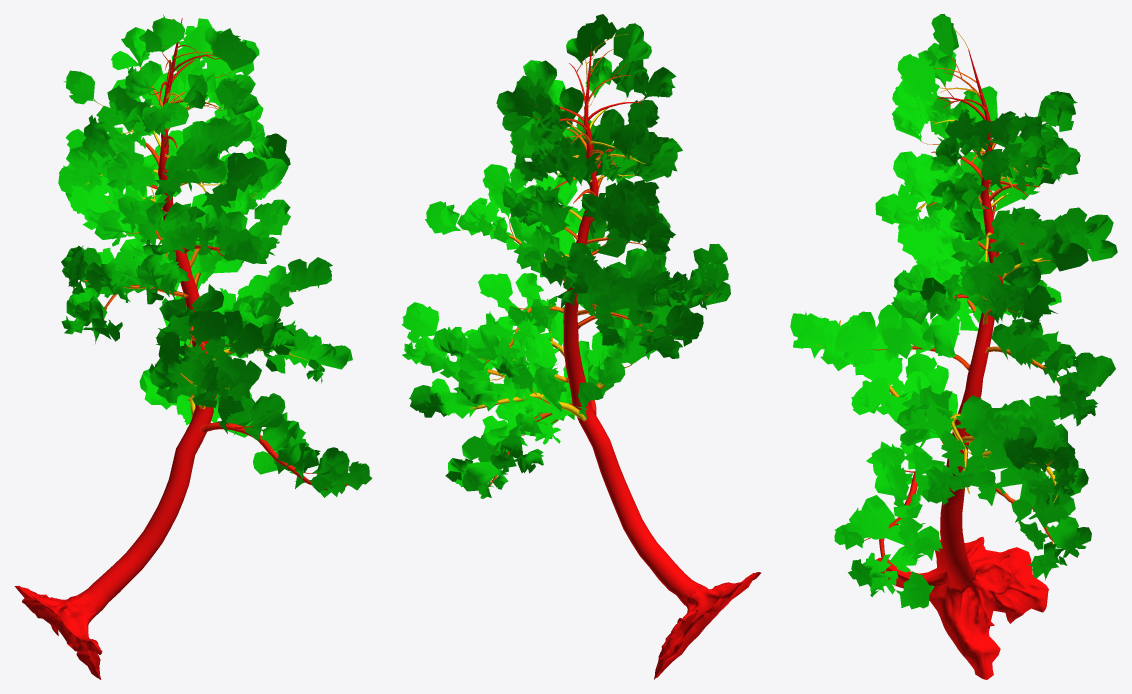
File: Pine_002_U2.FBX
3 renders of one model, left to right at view 1: azimuth 30°, elevation 25°; view 2: azimuth 150°, elevation 25°; view 3: azimuth 270°, elevation 25°, orthographic. The views are drawn at different scales.
Parts seen in each view (by area): view 1: U2_LOD0; view 2: U2_LOD0; view 3: U2_LOD0.
Part boxes in pixels (bbox=[...]): U2_LOD0: bbox=[14, 14, 372, 679]; U2_LOD0: bbox=[401, 14, 760, 679]; U2_LOD0: bbox=[790, 14, 1117, 679].
Size of what is drawn, in the model's own units: 1515 by 3014 by 1302.
